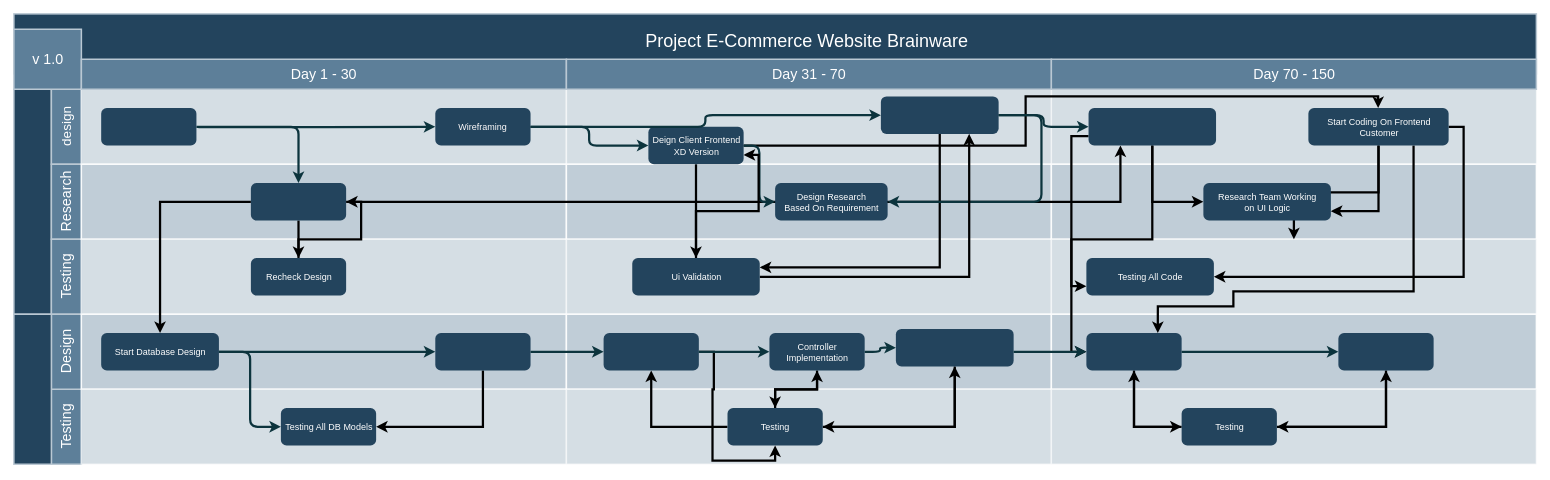
This 1550x480 diagram has some shape labels left out. Here are the shapes that lost their labels. From the top down, the centre of each, then its label:
At pixel 148 126: "Requirement Analysis".
At pixel 939 115: "Design Admin Frontend XD Version".
At pixel 1152 126: "Start Coding On Frontend Admin".
At pixel 32 201: "Design Phase".
At pixel 298 201: "System Design".
At pixel 482 351: "Database Model Design".
At pixel 650 351: "Backend Database Integration".
At pixel 954 347: "Middleware and Routes Imolementation".
At pixel 1133 351: "Connect Backend To Frontend".
At pixel 1385 351: "Add Data Display Logic".
At pixel 32 389: "Backend".
